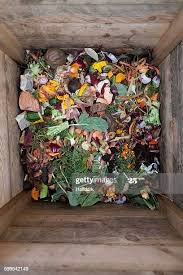kitchen_waste: (53, 152, 110, 205), (66, 112, 115, 133), (143, 98, 165, 127), (38, 79, 61, 100), (45, 47, 69, 67), (88, 57, 111, 76)
paper: (17, 89, 45, 114)
